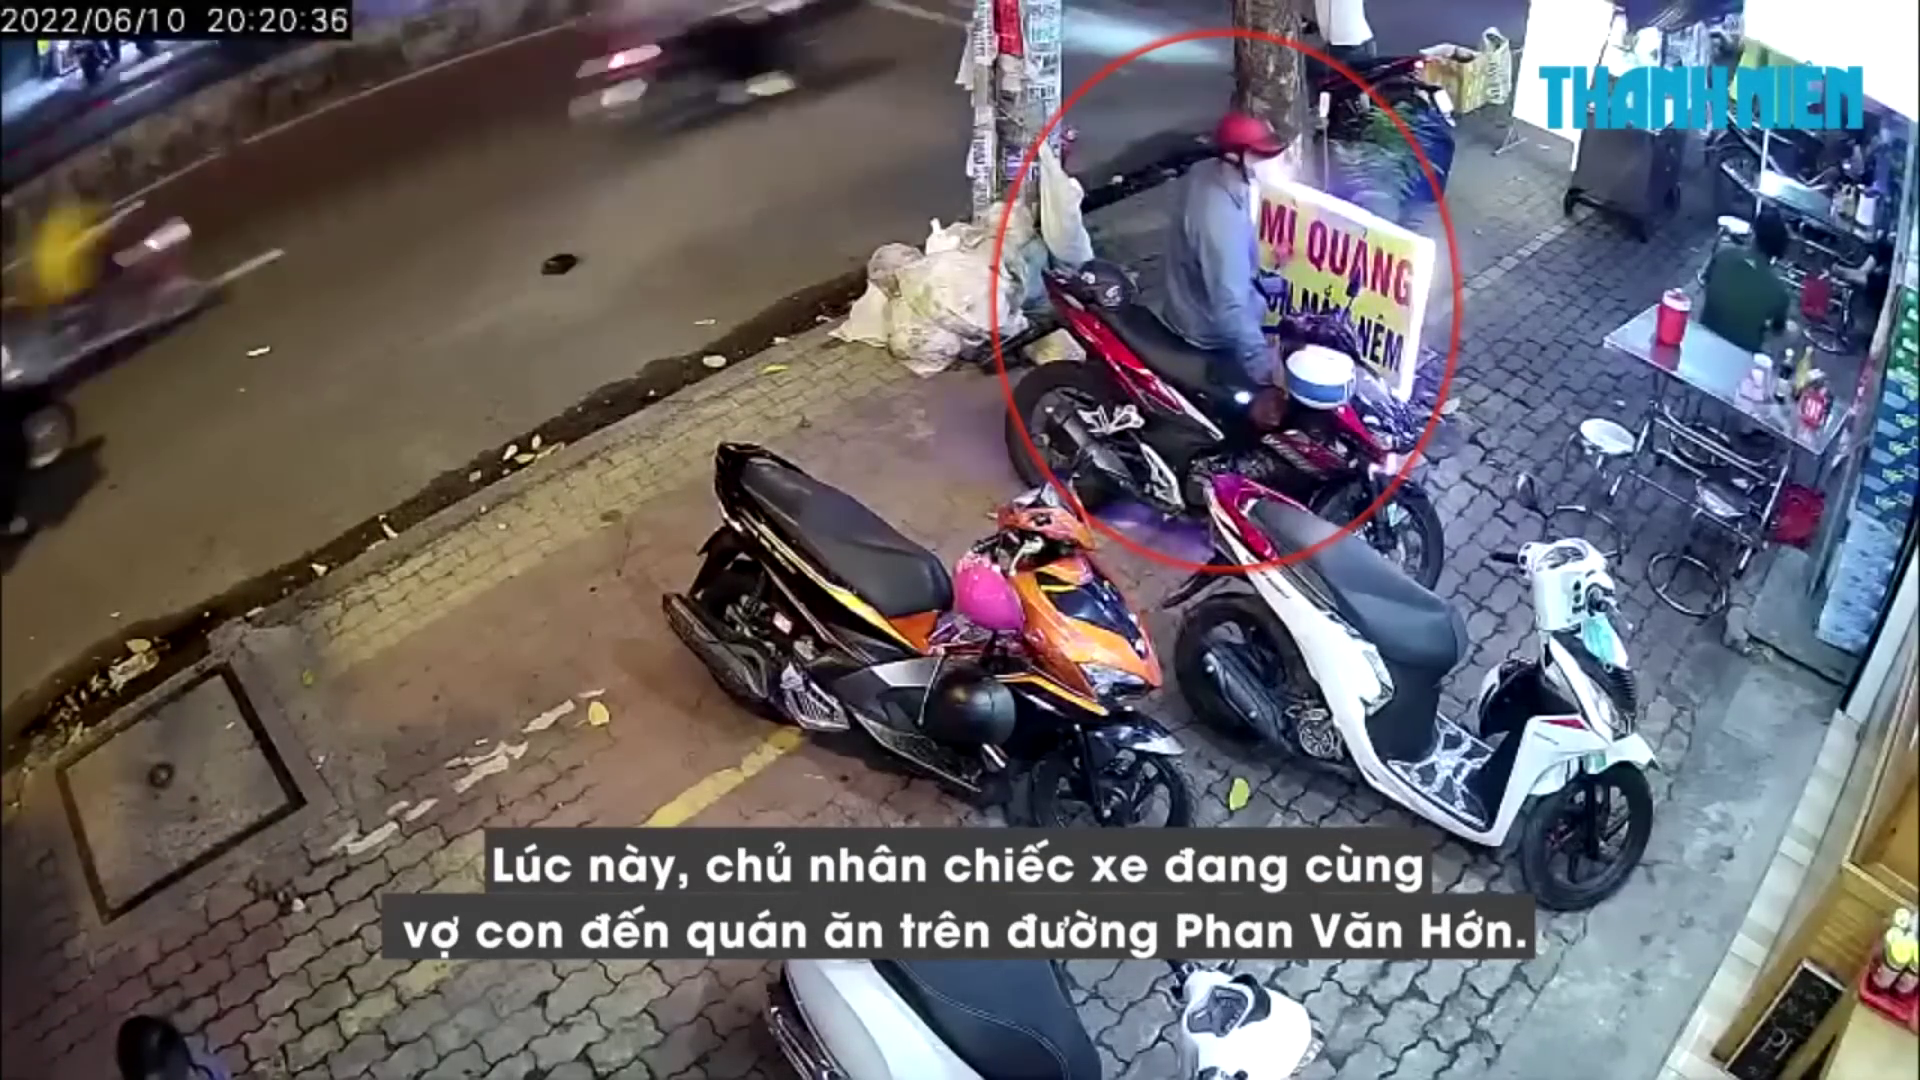Motorcycle: (989, 24, 1465, 592), (1163, 455, 1664, 913), (659, 439, 1195, 825), (1005, 258, 1447, 592), (761, 960, 1320, 1079), (1578, 402, 1801, 621)
